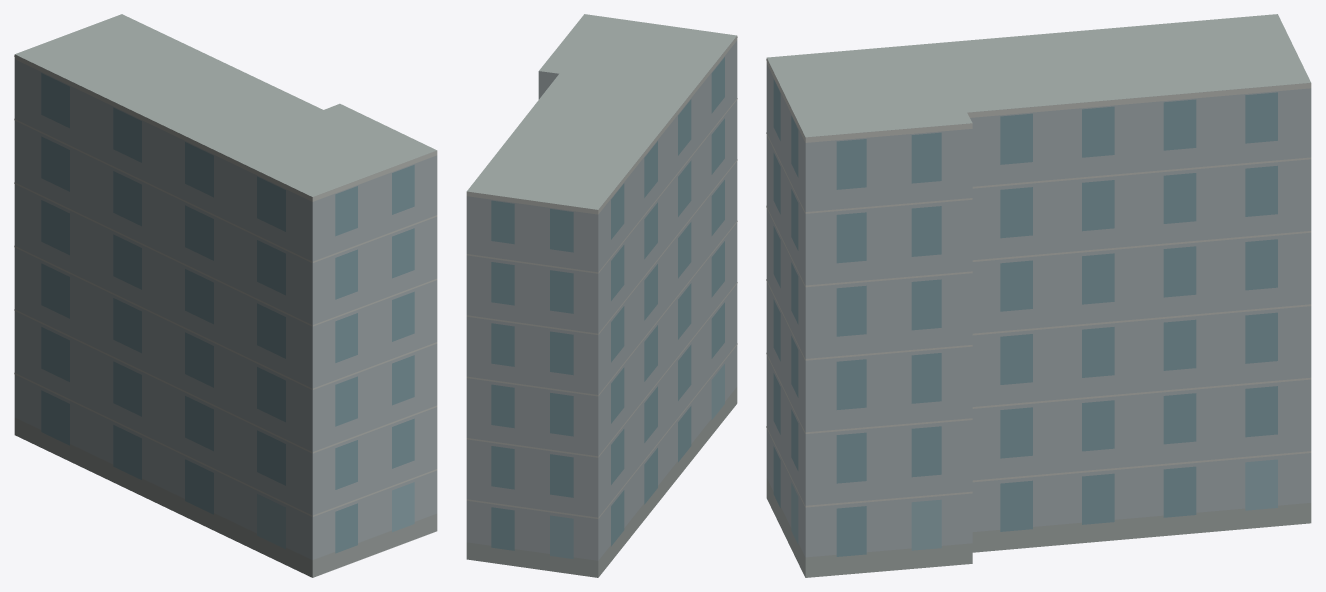
Rendered from survey-upis-32637191.glb.
3 views of the same model, side by side, from view 1: azimuth 30°, elevation 25°; view 2: azimuth 150°, elevation 25°; view 3: azimuth 270°, elevation 25° (orthographic). The views are drawn at different scales.
Visible parts, largest first — view 1: survey-upis-32637191.tmp; view 2: survey-upis-32637191.tmp; view 3: survey-upis-32637191.tmp.
Boxes of the visible parts, left/top/right/bottom form: survey-upis-32637191.tmp: left=14, top=14, right=437, bottom=577; survey-upis-32637191.tmp: left=466, top=14, right=737, bottom=577; survey-upis-32637191.tmp: left=766, top=14, right=1311, bottom=577.
Bounding box in the file's own units: 11.52 × 19.15 × 21.48.
